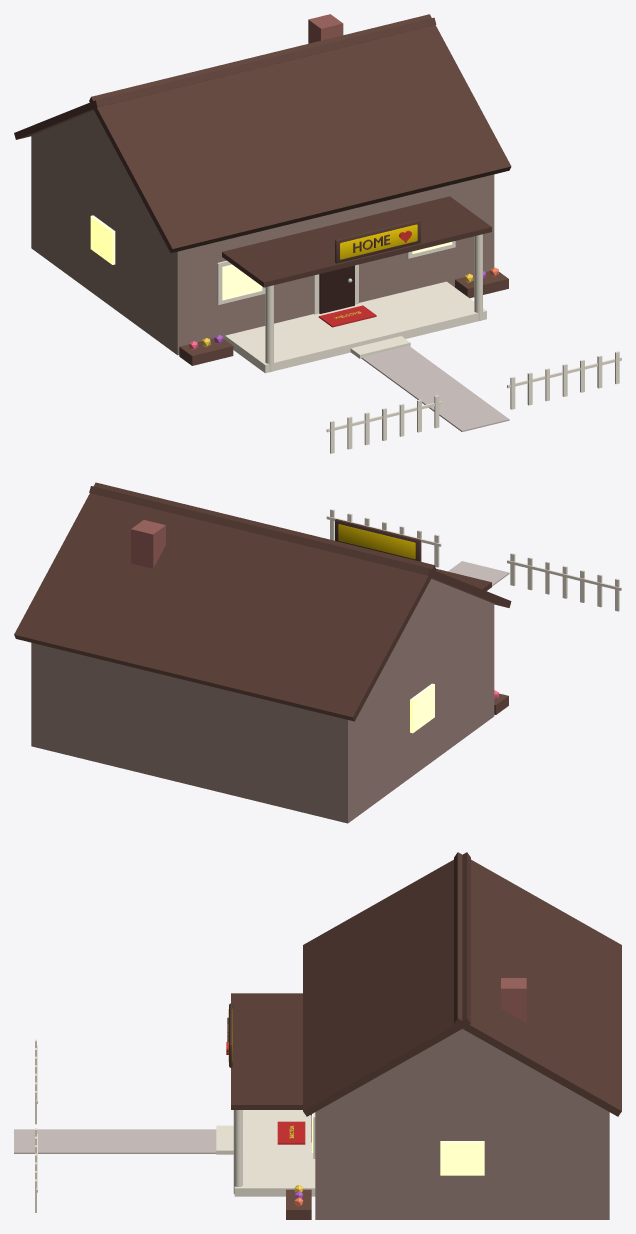
Rendered from dina_home.glb.
3 views of the same model, one above another, from view 1: azimuth 30°, elevation 25°; view 2: azimuth 150°, elevation 25°; view 3: azimuth 270°, elevation 25° (orthographic).
Parts seen in each view (by area): view 1: DinaHome_body; view 2: DinaHome_body; view 3: DinaHome_body.
Part boxes in pixels (x1,y1,x2,y2): DinaHome_body: (14, 14, 621, 453); DinaHome_body: (14, 482, 621, 823); DinaHome_body: (14, 852, 621, 1219).
Size of the model in its own units: 10.7 by 6.24 by 16.54.
